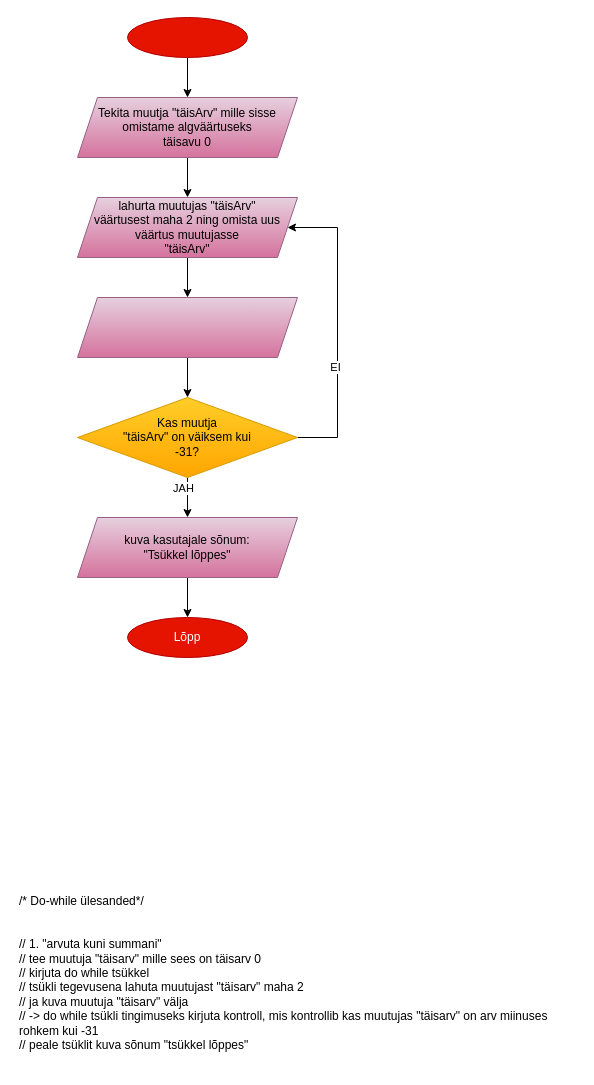
This 594x1085 diagram has some shape labels left out. The shapes that lost their labels are listed below. From the top down, each one's centre as x and y in pixels, then its label:
point 187,37: Algus
point 187,327: Kuva kasutajale muutujas "täisArv" olev väärtus välja+
